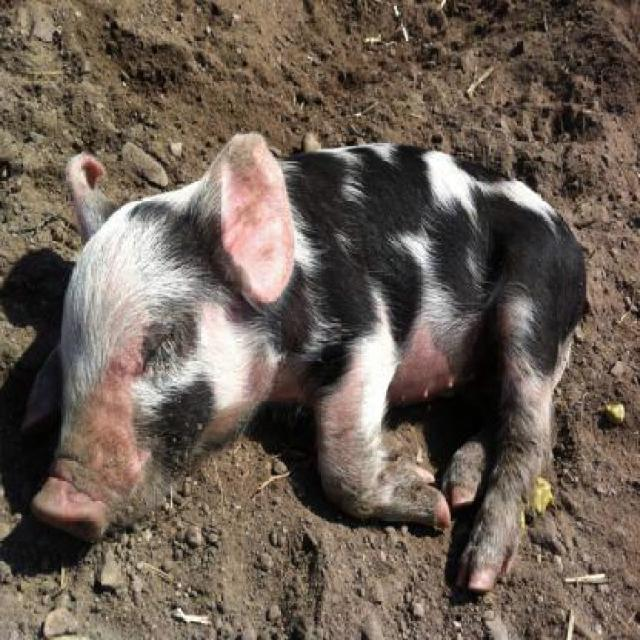Boar: (31, 134, 592, 592)
